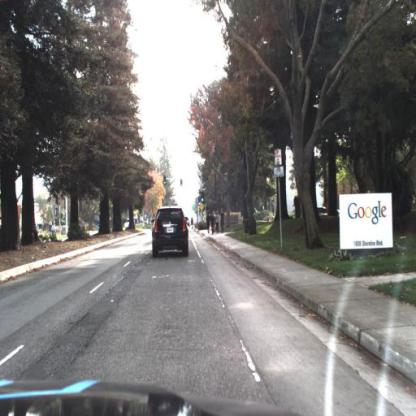car: (151, 207, 191, 261)
pedestrian: (215, 211, 220, 239), (222, 211, 227, 238), (207, 211, 211, 238), (212, 210, 216, 237)
trafficLight-Green: (162, 176, 167, 188), (180, 179, 185, 191), (197, 195, 202, 207), (202, 190, 206, 205), (202, 193, 206, 207), (164, 176, 168, 189), (180, 179, 184, 189)
